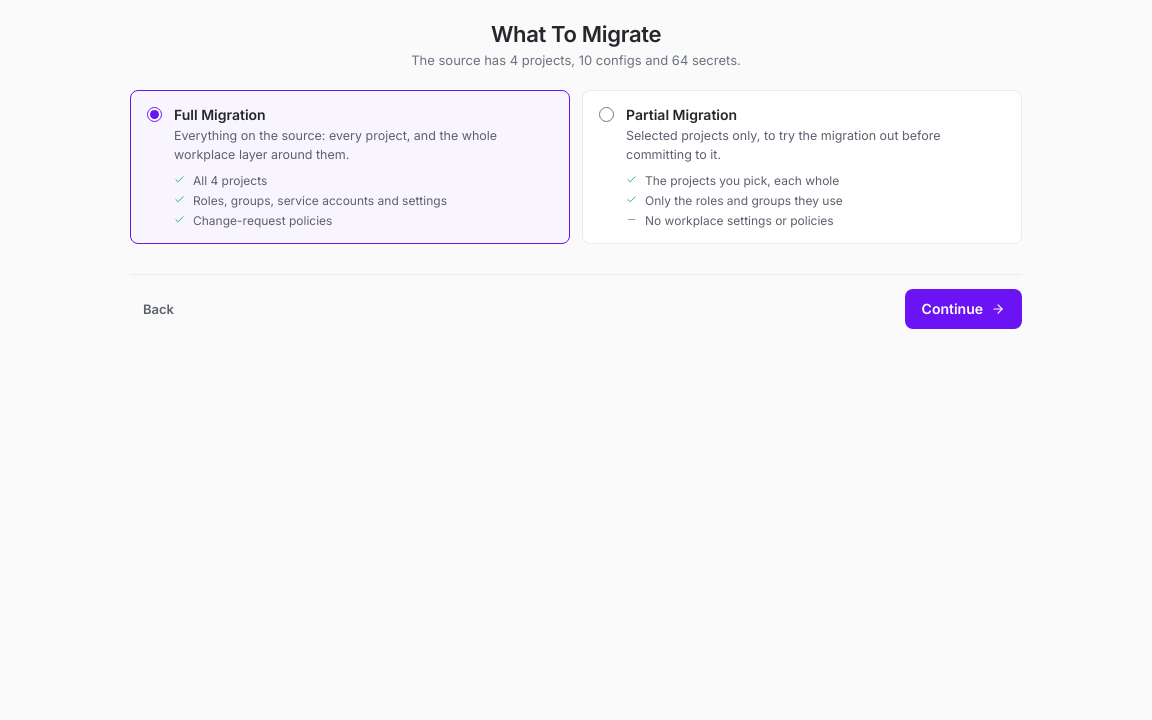
Test case: ScopePage › keeps a count out of the button label
Click the radio button labelled "Partial Migration" at (606, 114), box [599,107,614,122]
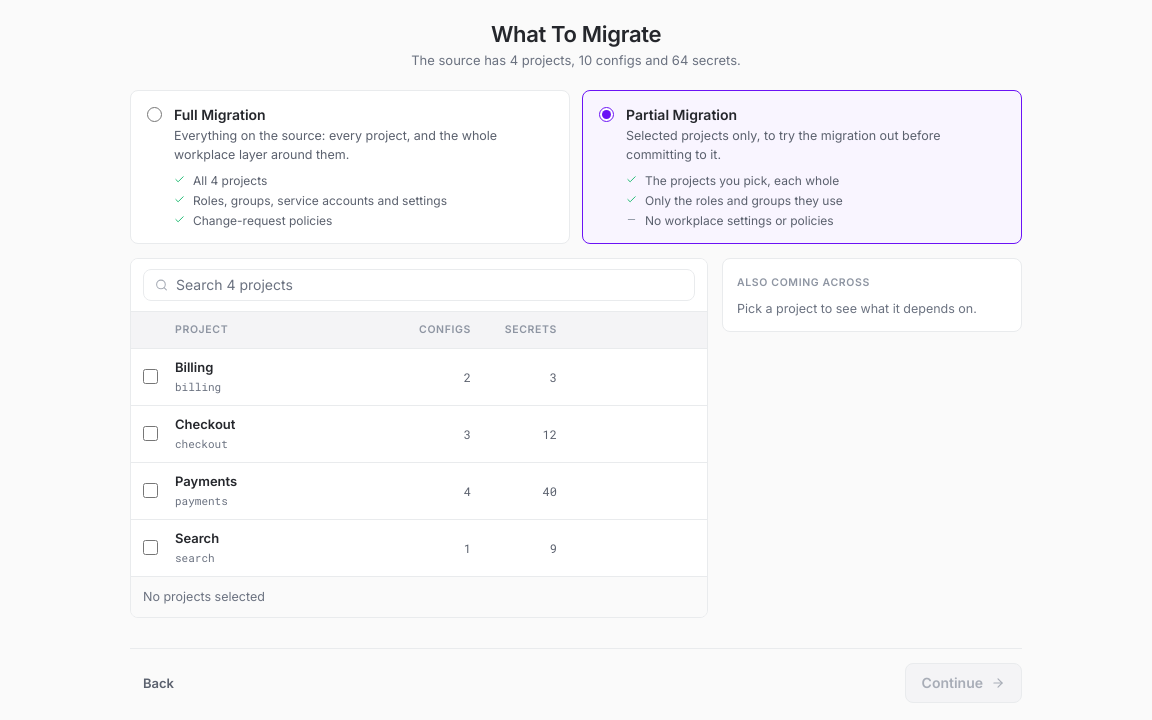
Click the checkbox labelled "Payments" at (150, 490), box [143,483,158,498]
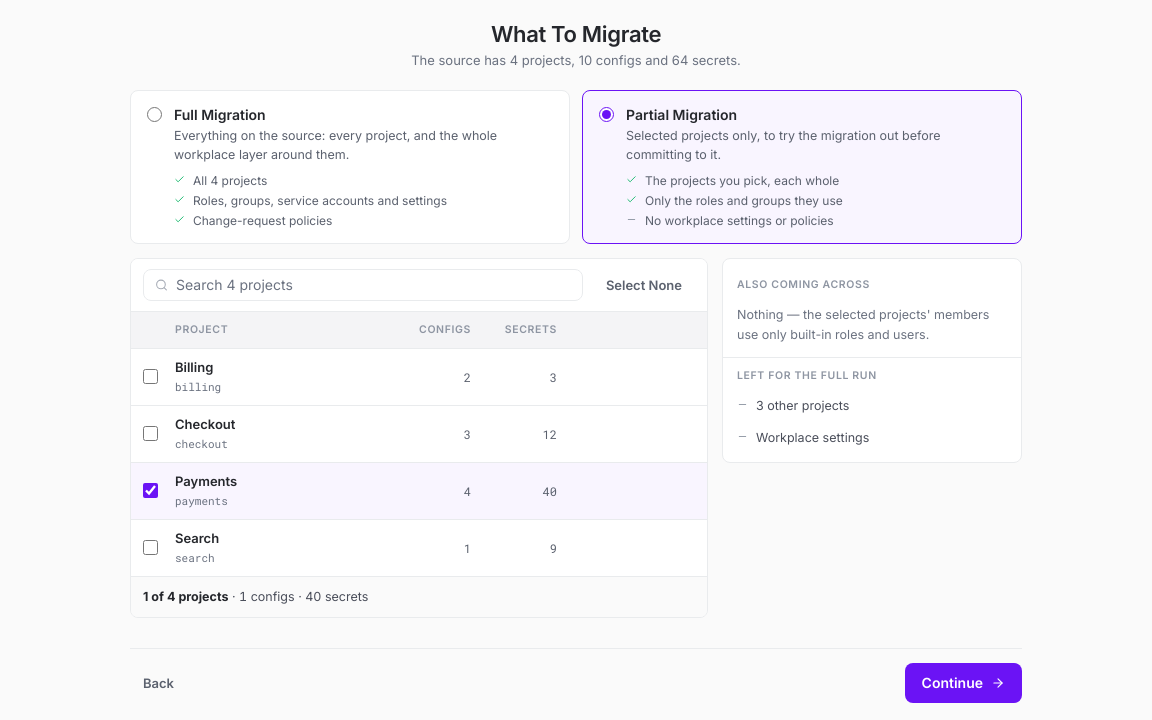
Expected: the text "1 of 4 projects" is shown, [143,588,228,604]
